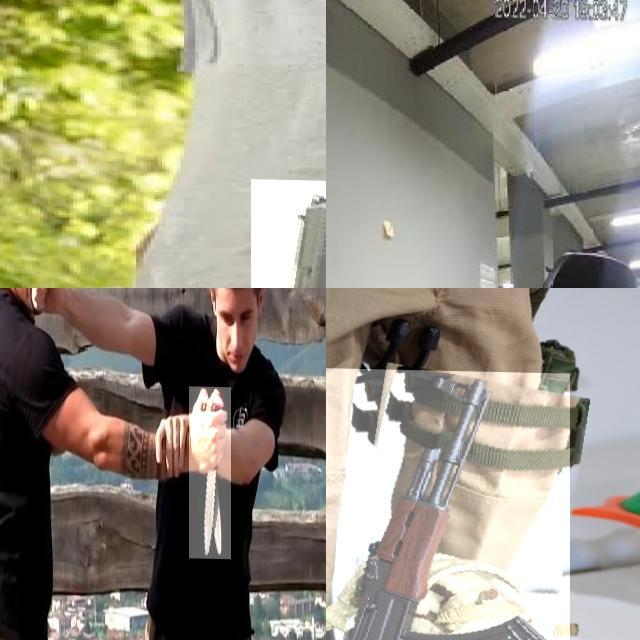-: (189, 384, 231, 558), (326, 168, 334, 217)
gun-knife-thesis - v11 Yolov5 augmented: (326, 366, 570, 640)
